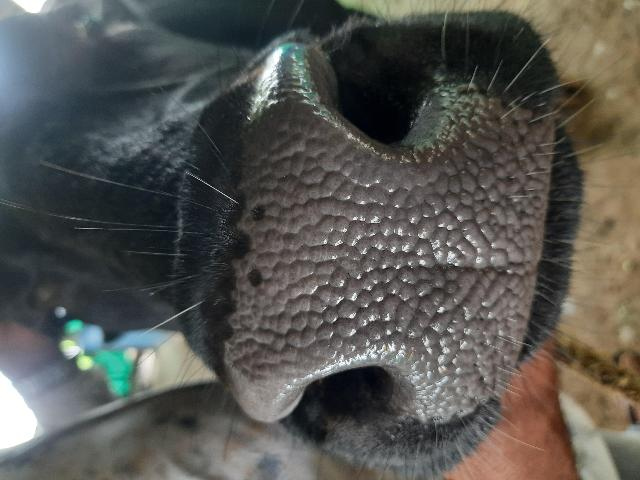Muzzle: (246, 98, 522, 408)
